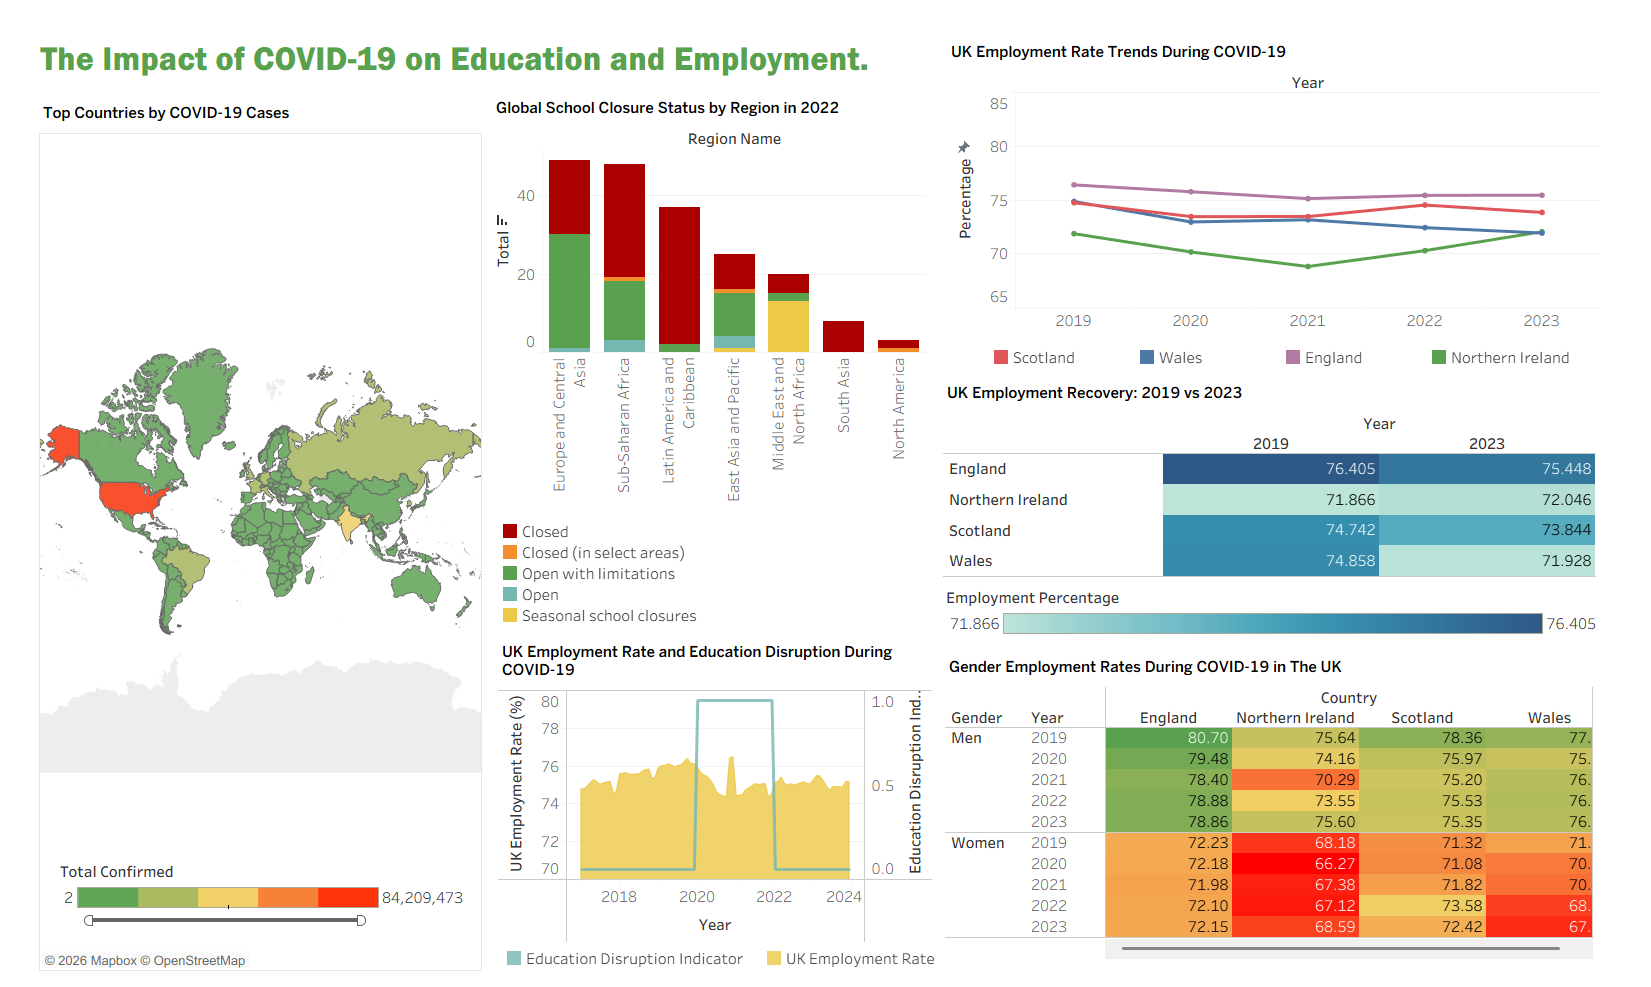

What the dashboard file says about the page in this screenshot:
{"tool":"tableau","page":{"name":"Dashboard Final","canvas":[1600,1000],"ordinal":0},"visuals":[{"type":"text","box":[25,9,1518,57]},{"type":"worksheet","title":"Line","mark":"Line","cols":["Calculation_1141843003011072"],"box":[935,18,653,293]},{"type":"worksheet","title":"Bar","mark":"Automatic","rows":["Country Name"],"cols":["Region Name"],"box":[480,74,434,417]},{"type":"worksheet","title":"Map","mark":"Automatic","box":[27,79,443,871]},{"type":"legend","title":"Line","param":"[federated.0hdl8z20t1jriq1etufeu1i95dlq].[:Measure Names]","box":[979,304,599,49]},{"type":"worksheet","title":"Heatmap","mark":"Square","cols":["Calculation_1244578871623681"],"box":[931,359,653,197]},{"type":"legend","title":"Bar","param":"[federated.0vjj5pa048otqs161htol0x1da3t].[none:School Status:nk]","box":[488,478,224,129]},{"type":"legend","title":"Heatmap","param":"[federated.0zzeczf10dbbu515pk2c30zv89ts].[Multiple Values]","box":[934,566,655,48]},{"type":"worksheet","title":"Area","mark":"Area","rows":["Calculation_1244579024998407"],"cols":["Calculation_1244579022327814"],"box":[486,618,435,304]},{"type":"worksheet","title":"Text Table","mark":"Automatic","rows":["Sheet","Calculation_0119297212444676"],"cols":["Pivot Field Names"],"box":[933,633,648,348]},{"type":"legend","title":"Map","param":"[federated.03bucvb0pxvkym12ghw041xqbhzv].[sum:total_confirmed:qk]","box":[48,840,408,80]},{"type":"filter","title":"Map","param":"[federated.03bucvb0pxvkym12ghw041xqbhzv].[sum:total_confirmed:qk]","box":[69,887,288,65]},{"type":"legend","title":"Area","param":"[federated.1udhvga14z7woq19rnx040i47i5a].[:Measure Names]","box":[420,927,597,42]}]}

Visuals, with their boxes on the page's 1600x1000 design canvas (x1, y1, x2, y2). These are canvas units, not pixel positions in the 1651x987 screenshot, which may show the page scaled, cropped or inside an application window:
text: 25 9 1543 66
"Line" worksheet (Line marks): 935 18 1588 311
"Bar" worksheet: 480 74 914 491
"Map" worksheet: 27 79 470 950
"Line" legend: 979 304 1578 353
"Heatmap" worksheet (Square marks): 931 359 1584 556
"Bar" legend: 488 478 712 607
"Heatmap" legend: 934 566 1589 614
"Area" worksheet (Area marks): 486 618 921 922
"Text Table" worksheet: 933 633 1581 981
"Map" legend: 48 840 456 920
"Map" filter: 69 887 357 952
"Area" legend: 420 927 1017 969
